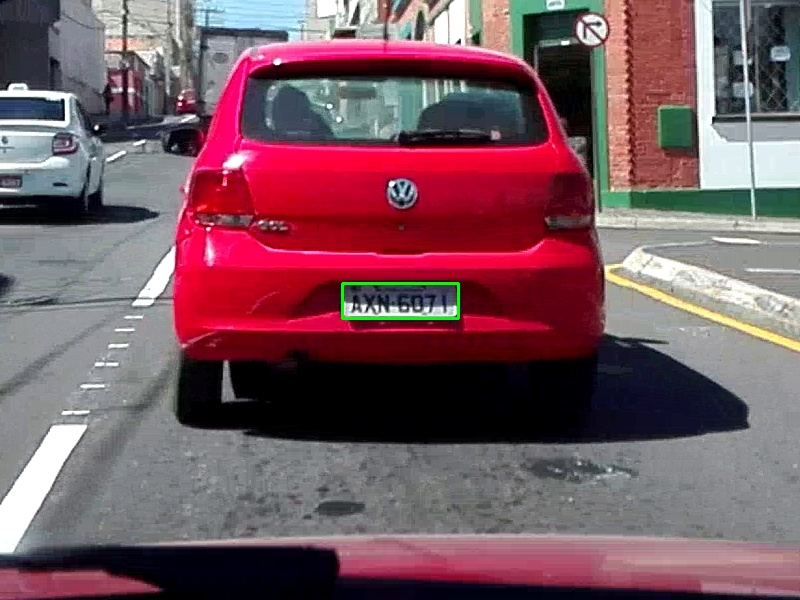placa: (342, 283, 458, 318)
